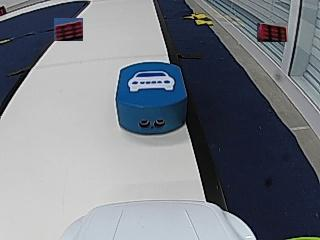safety: (127, 70, 178, 92)
